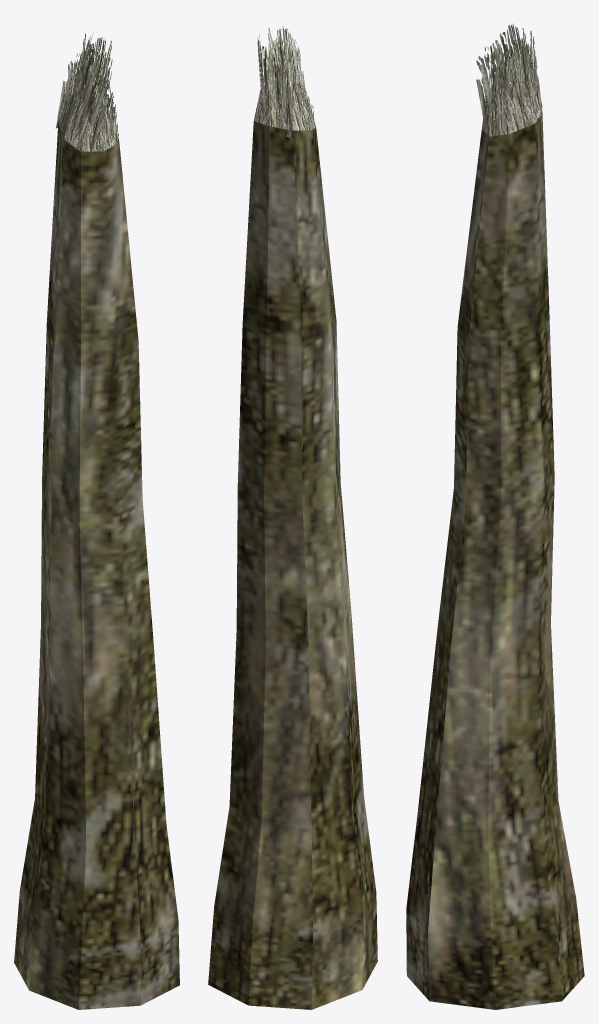
Rendered from dead_tree.glb.
3 views of the same model, side by side, from view 1: azimuth 30°, elevation 25°; view 2: azimuth 150°, elevation 25°; view 3: azimuth 270°, elevation 25° (orthographic). The views are drawn at different scales.
Parts seen in each view (by area): view 1: dead_deciduous; view 2: dead_deciduous; view 3: dead_deciduous.
Part boxes in pixels (x1,y1,x2,y2): dead_deciduous: (14,32,179,1009); dead_deciduous: (208,26,377,1009); dead_deciduous: (406,23,584,1009).
Size of the model in its own units: 1.29 by 8.55 by 1.43.
Materials: 1 (1 with a texture image).
